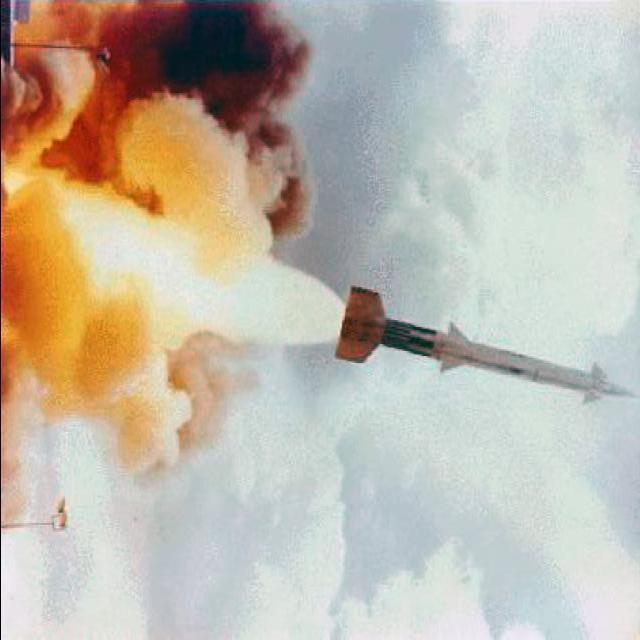missile: (318, 280, 638, 411)
